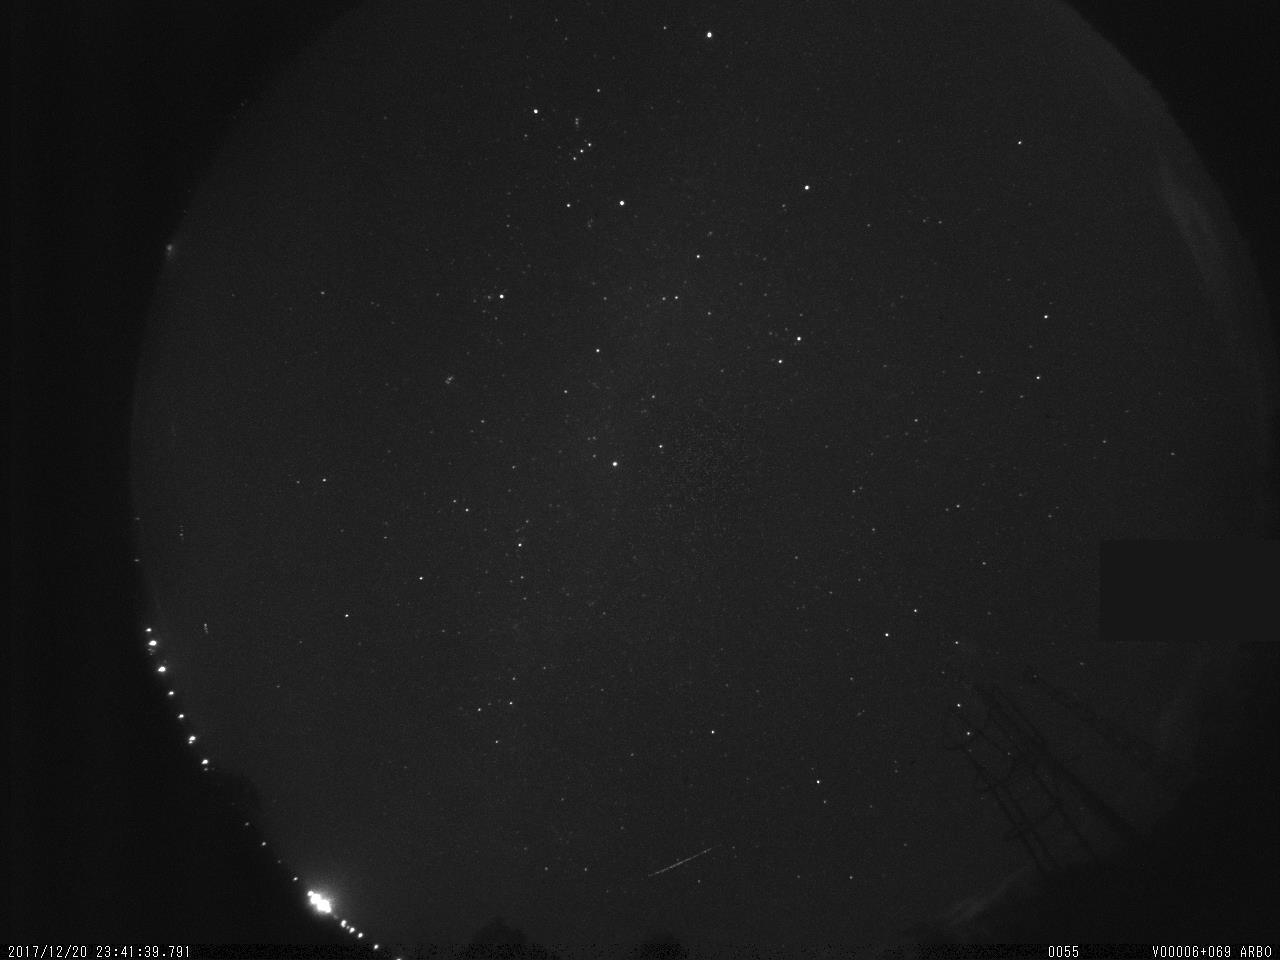meteor: (631, 840, 723, 886)
